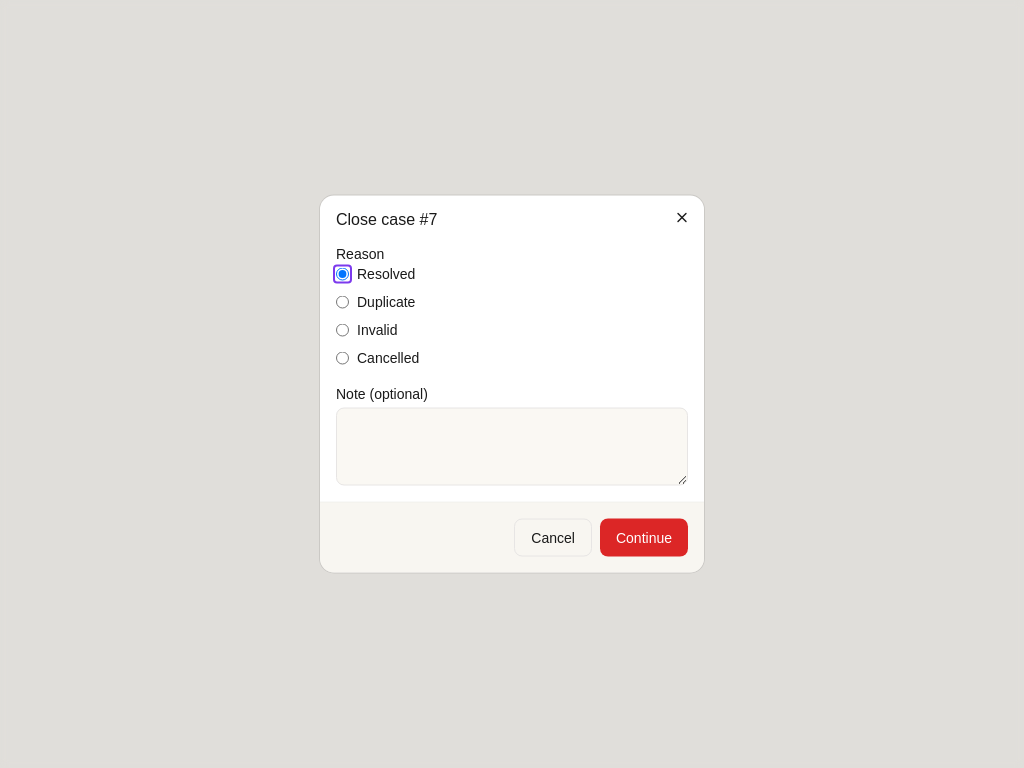
Test case: CloseCaseDialog › shows a confirmation step before final submit
Click the radio button labelled "Duplicate" at (342, 302), box x1=336 y1=295 x2=349 y2=308
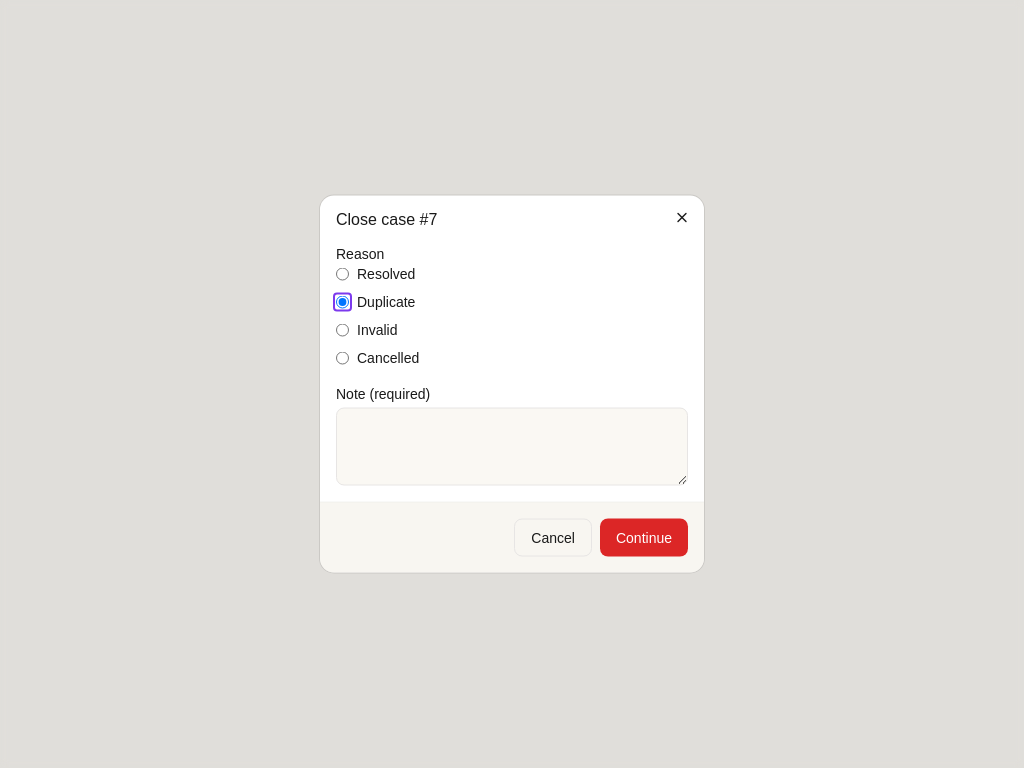
Type "Same as case 3" into the text box labelled "Note (required)" at (512, 446), box x1=336 y1=408 x2=688 y2=486
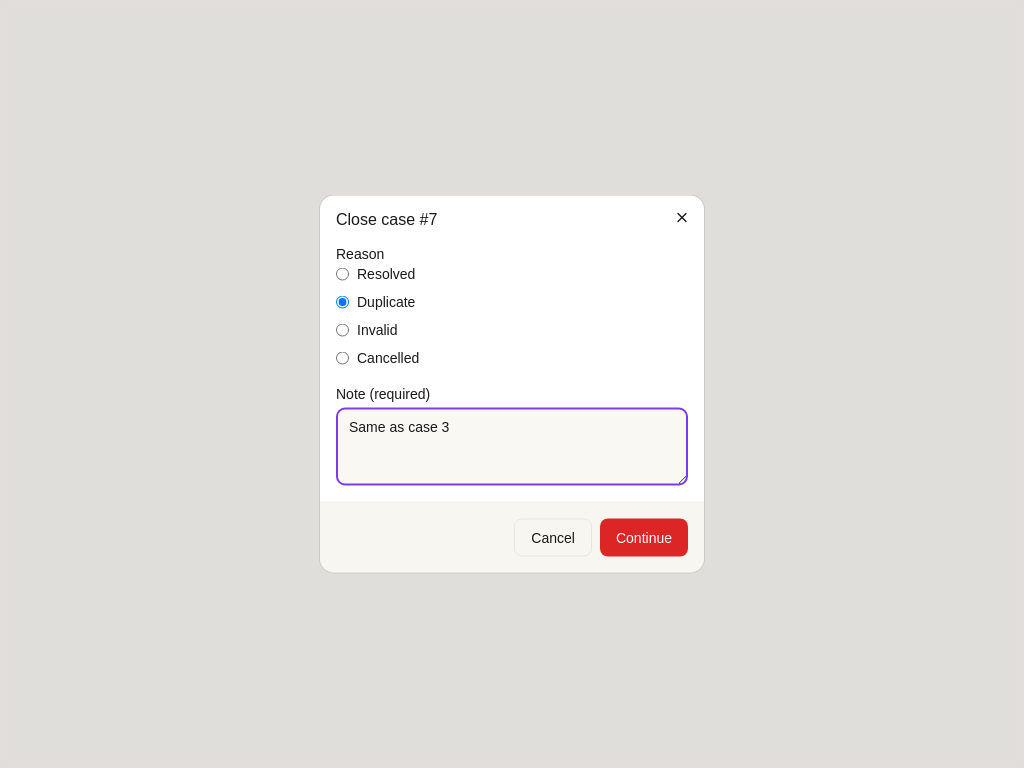
Click the button "Continue" at (644, 538), box x1=600 y1=518 x2=688 y2=556
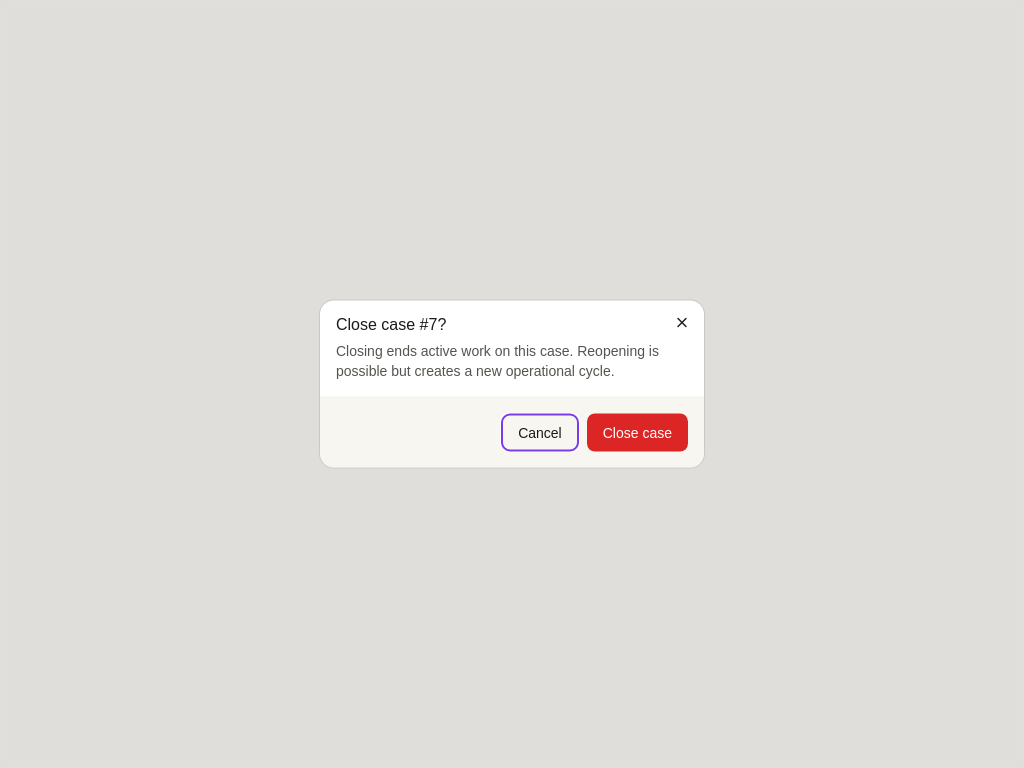
Result: the button "Close case" is shown at x1=587 y1=414 x2=688 y2=452
Result: the text "Closing ends active work" is shown at x1=336 y1=342 x2=659 y2=378
